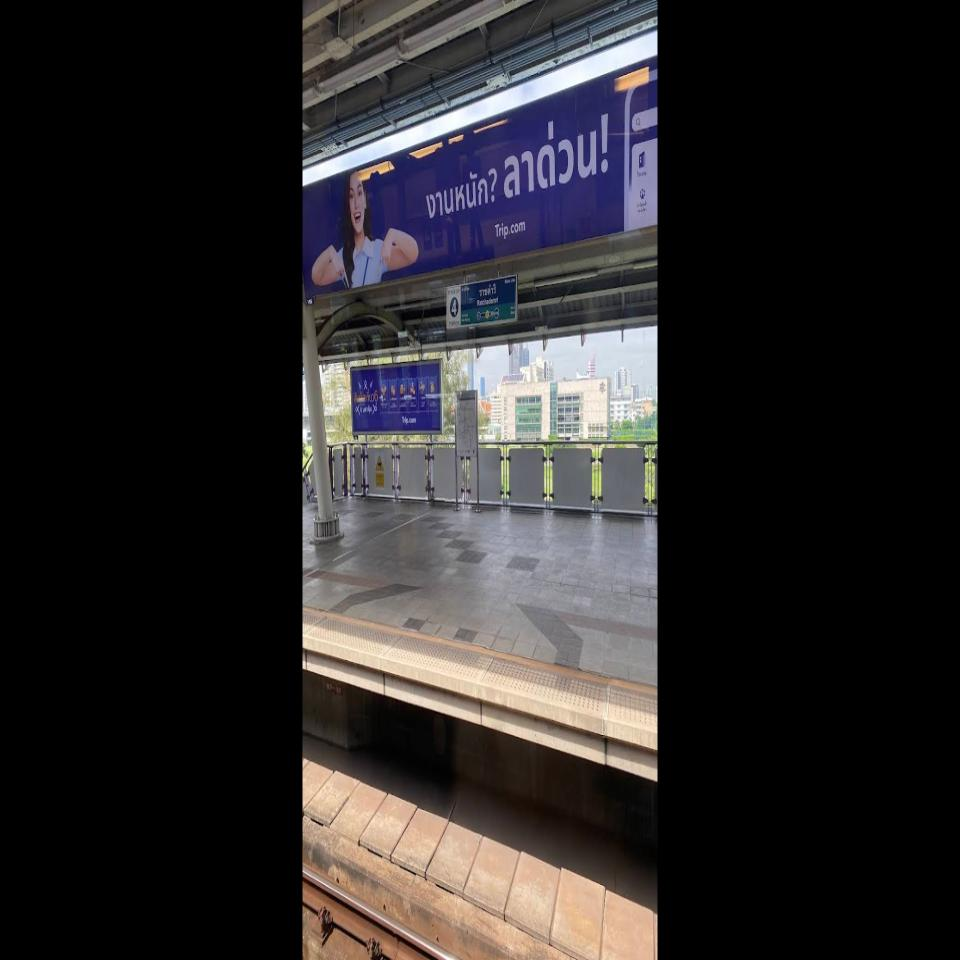signage: (476, 277, 499, 326)
